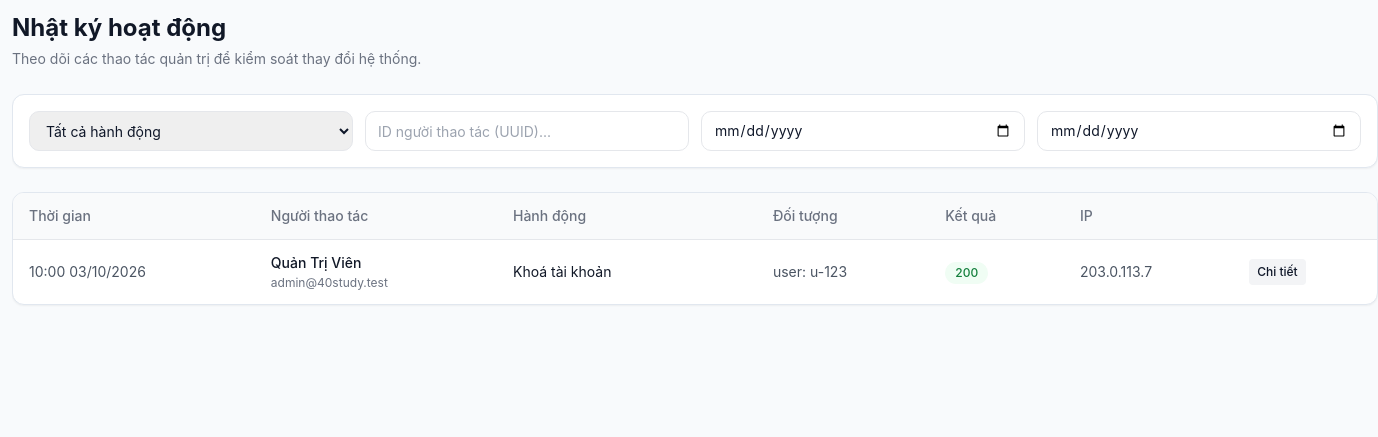
Test: AdminAuditLogsPage › metadata chỉ mở khi bấm Chi tiết và hiện dạng văn bản (không render HTML)
Expected: the text "\"old\"" is not shown
Click the button "Chi tiết" at (1277, 272), box [1249,259,1306,285]
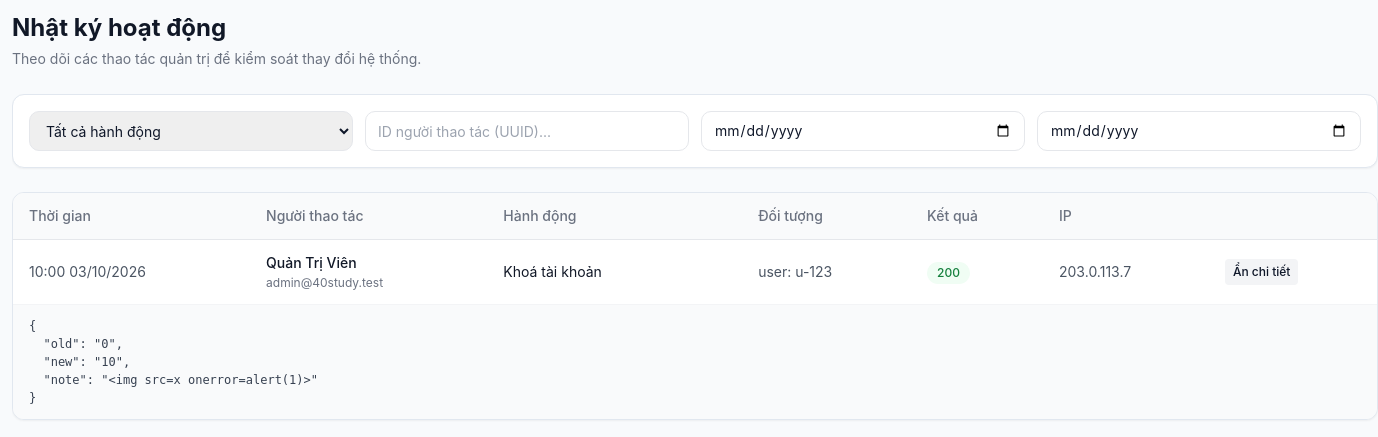
Expected: the text "\"new\": \"10\"" is shown, [29,319,318,405]
Click the button "Ẩn chi tiết" at (1262, 272), box [1225,259,1298,285]
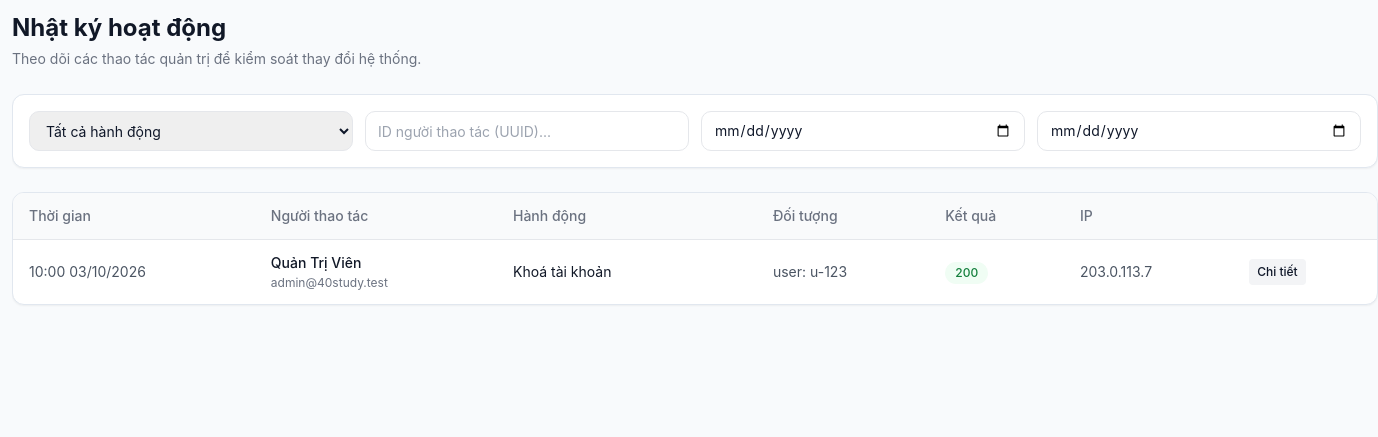
Expected: the text "\"old\"" is gone
